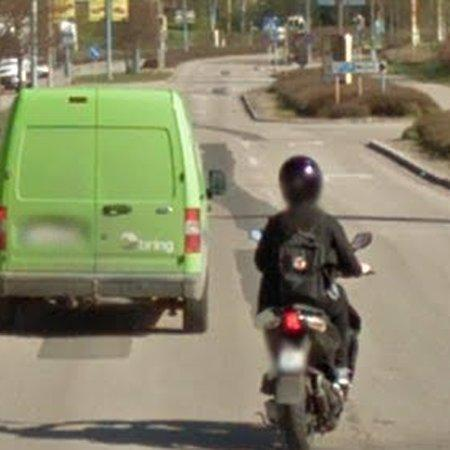motorcycles: (257, 304, 344, 450)
